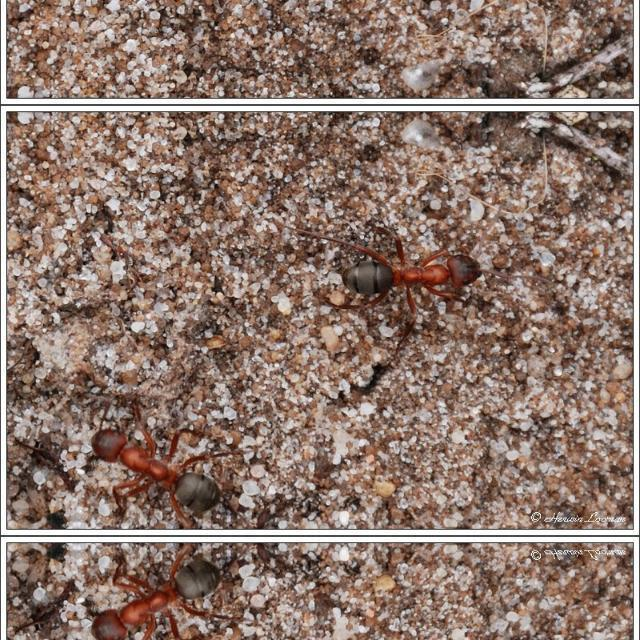Formica: (82, 390, 252, 520), (329, 216, 505, 314), (82, 548, 252, 640)
